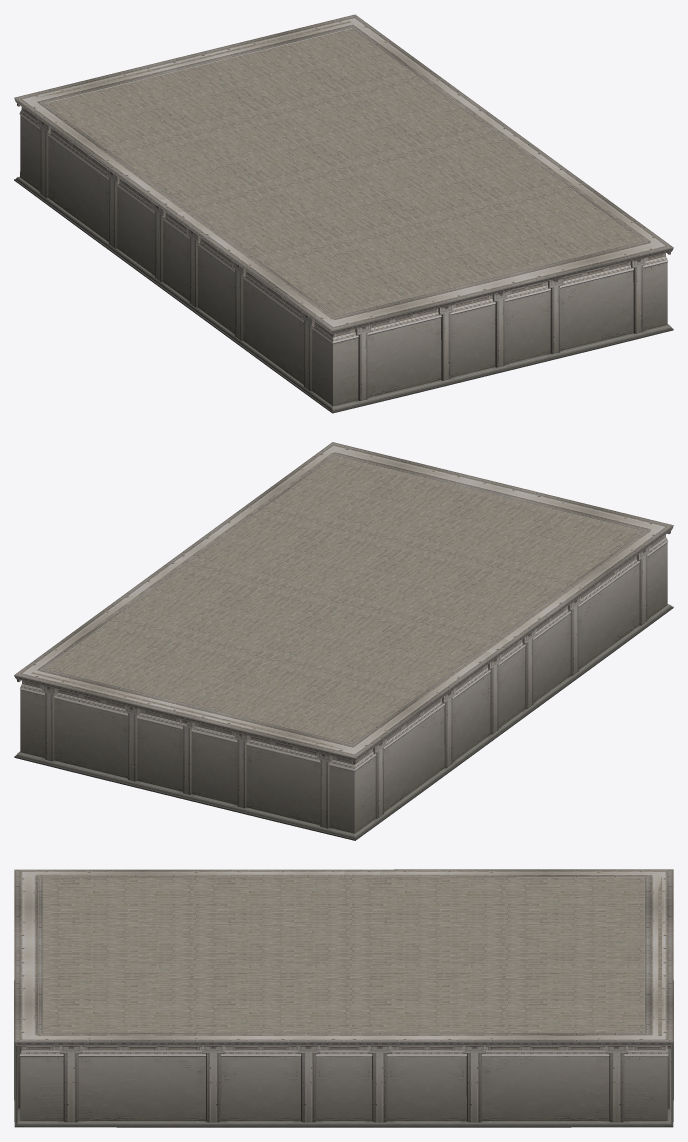
The model's file is mod_zlc_jianzhu069_xy02.FBX.
The picture shows the model from 3 angles, top to bottom: view 1: azimuth 30°, elevation 25°; view 2: azimuth 150°, elevation 25°; view 3: azimuth 270°, elevation 25°; orthographic projection. The views are drawn at different scales.
Parts seen in each view (by area): view 1: mod_zlc_jianzhu069_xy02; view 2: mod_zlc_jianzhu069_xy02; view 3: mod_zlc_jianzhu069_xy02.
Part boxes in pixels (x1,y1,x2,y2): mod_zlc_jianzhu069_xy02: (14, 14, 673, 413); mod_zlc_jianzhu069_xy02: (14, 442, 673, 840); mod_zlc_jianzhu069_xy02: (14, 869, 673, 1127).
Bounding box in the file's own units: 71.26 × 16.56 × 115.
Materials: 2 (2 with a texture image).
